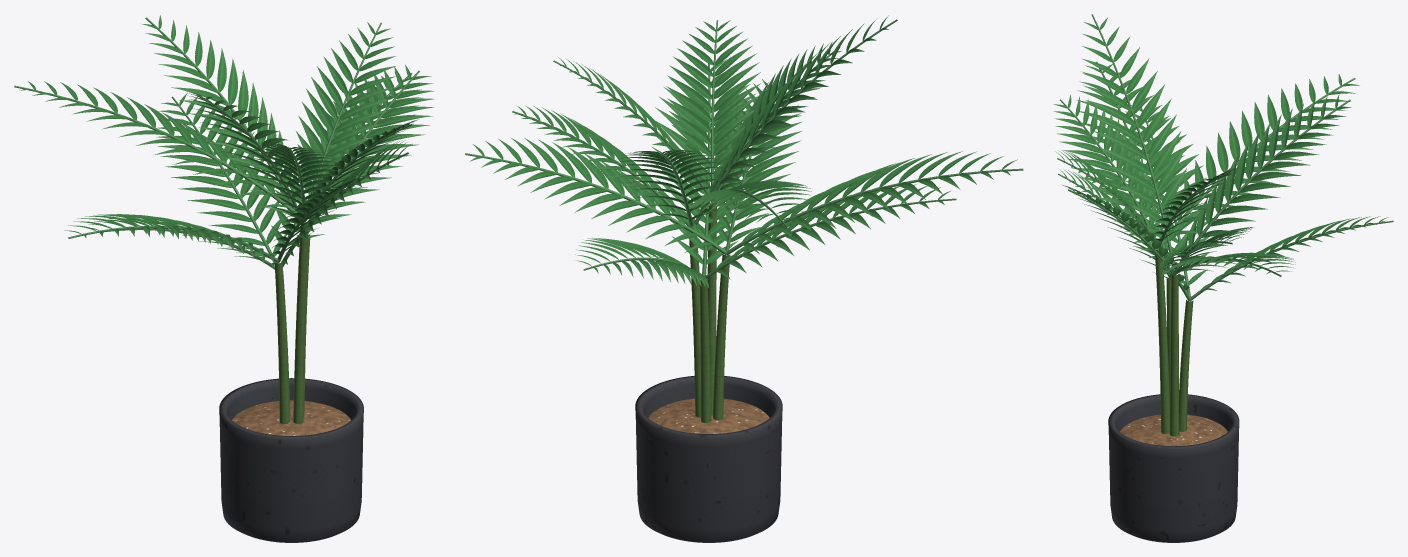
The model's file is palm.glb.
The picture shows the model from 3 angles, left to right: view 1: azimuth 30°, elevation 25°; view 2: azimuth 150°, elevation 25°; view 3: azimuth 270°, elevation 25°; orthographic projection. The views are drawn at different scales.
Visible parts, largest first — view 1: piece-0, piece-12, piece-3, piece-5, piece-2, piece-13, piece-15, piece-1, piece-14, piece-4, piece-8, piece-10 (+4 smaller); view 2: piece-0, piece-11, piece-10, piece-8, piece-15, piece-7, piece-4, piece-9, piece-6, piece-3, piece-2, piece-1 (+4 smaller); view 3: piece-0, piece-4, piece-3, piece-13, piece-15, piece-14, piece-8, piece-1, piece-7, piece-5, piece-6, piece-10 (+4 smaller).
Part boxes in pixels (x1,y1,x2,y2): piece-0: (219, 378, 363, 542); piece-12: (294, 22, 395, 201); piece-3: (140, 15, 302, 220); piece-5: (156, 93, 286, 264); piece-2: (305, 64, 434, 233); piece-13: (14, 81, 301, 219); piece-15: (274, 222, 310, 424); piece-1: (232, 400, 351, 435); piece-14: (248, 143, 343, 221); piece-4: (187, 91, 315, 220); piece-8: (64, 214, 279, 263); piece-10: (271, 71, 421, 261); piece-0: (635, 376, 782, 542); piece-11: (666, 20, 760, 189); piece-10: (465, 137, 726, 254); piece-8: (726, 151, 1023, 255); piece-15: (689, 202, 730, 423); piece-7: (651, 59, 764, 275); piece-4: (694, 15, 897, 224); piece-9: (709, 79, 802, 251); piece-6: (705, 184, 956, 279); piece-3: (616, 150, 729, 228); piece-2: (512, 106, 689, 226); piece-1: (648, 398, 769, 433); piece-0: (1108, 394, 1239, 542); piece-4: (1081, 14, 1188, 273); piece-3: (1176, 94, 1351, 274); piece-13: (1161, 74, 1359, 246); piece-15: (1155, 249, 1193, 436); piece-14: (1053, 94, 1159, 238); piece-8: (1076, 61, 1188, 273); piece-1: (1120, 414, 1227, 446); piece-7: (1061, 184, 1190, 300); piece-5: (1190, 216, 1393, 300); piece-6: (1121, 105, 1208, 296); piece-10: (1161, 252, 1295, 277).
Size of the model in its own units: 0.5772 by 0.6001 by 0.4195.
Materials: 4 (4 with a texture image).
